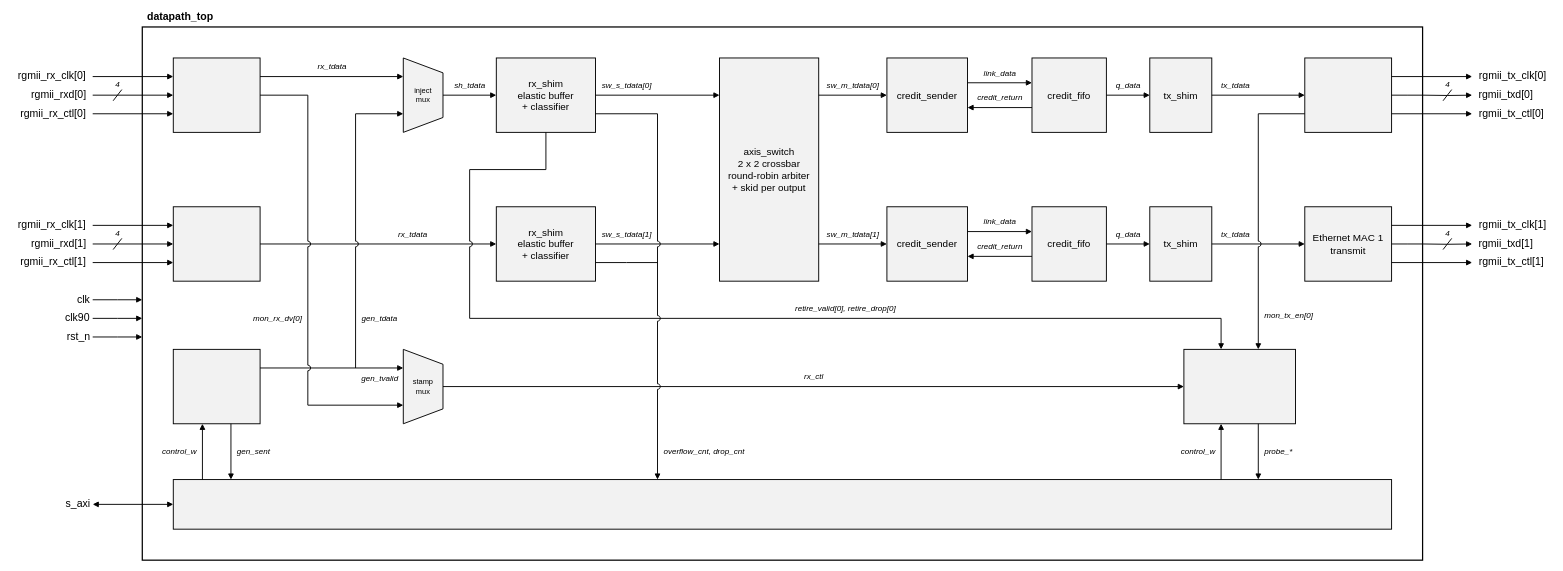
Some shapes in this 1563 by 571 pixel diagram are drawn without their labels. Here are the shapes that lost their labels. From the top down, the centre of each, then its label:
At point (216, 95): "Ethernet MAC 0 receive".
At point (1348, 95): "Ethernet MAC 0 transmit".
At point (216, 243): "Ethernet MAC 1 receive".
At point (216, 386): "frame_gen".
At point (1239, 386): "latency_probe".
At point (782, 504): "axil_csr 32 registers".
